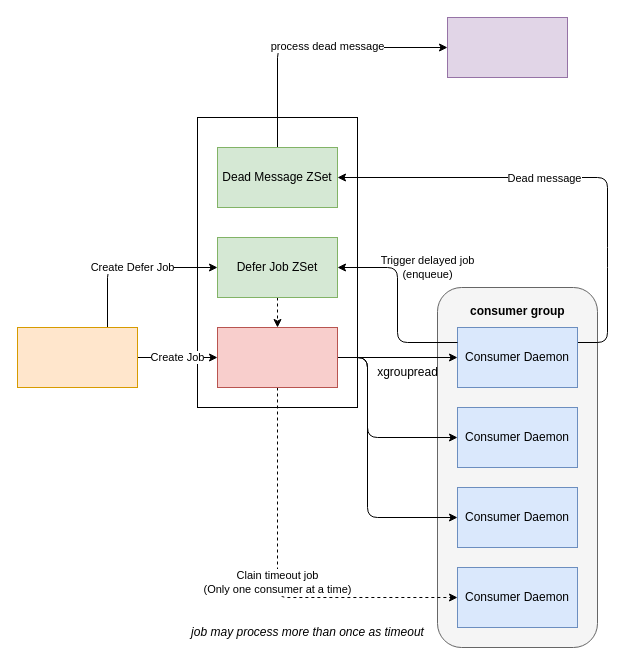
Some shapes in this 633 by 665 pixel diagram are drawn without their labels. The centre of each missing label's shape, as x and y in pixels:
"Consumer" belongs at [507,47].
"Producer" belongs at [77,357].
"Redis Stream" belongs at [277,357].
